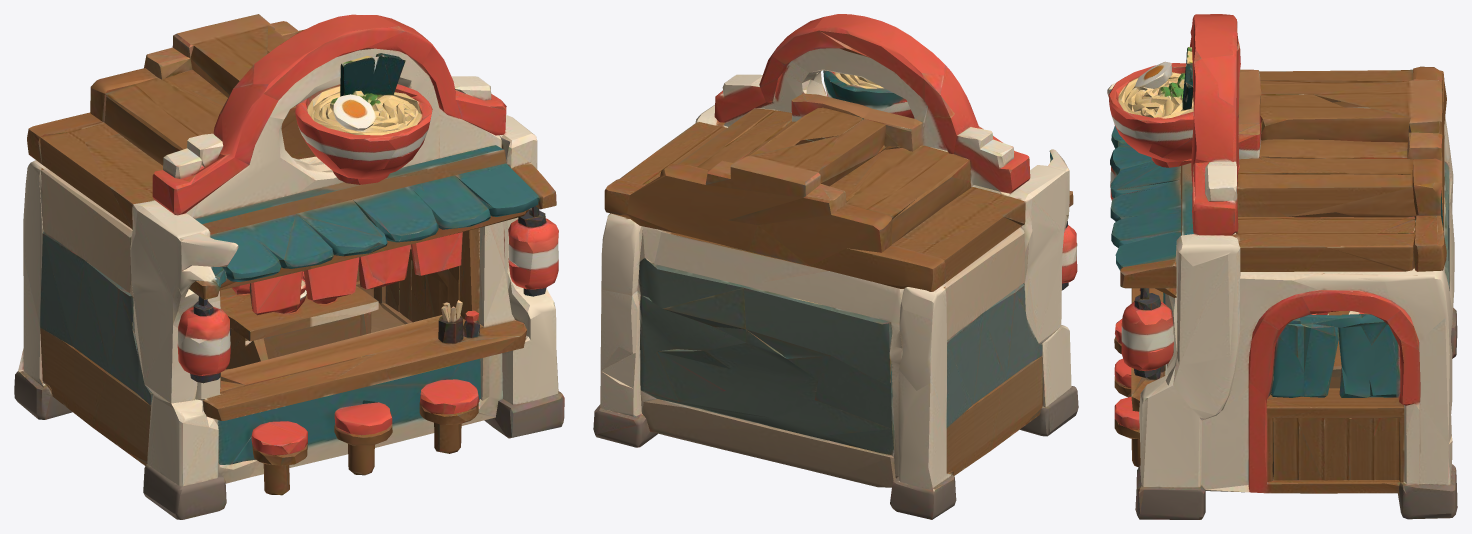
File: stallHeritage.glb
3 renders of one model, left to right at view 1: azimuth 30°, elevation 25°; view 2: azimuth 150°, elevation 25°; view 3: azimuth 270°, elevation 25°, orthographic. The views are drawn at different scales.
Visible parts, largest first — view 1: Mesh_0; view 2: Mesh_0; view 3: Mesh_0.
Boxes of the visible parts, x1,y1,x2,y2 form: Mesh_0: [14, 14, 564, 519]; Mesh_0: [593, 14, 1078, 519]; Mesh_0: [1107, 14, 1457, 519].
Size of the model in its own units: 2.73 by 2.8 by 2.18.
1 material, 1 textured.
